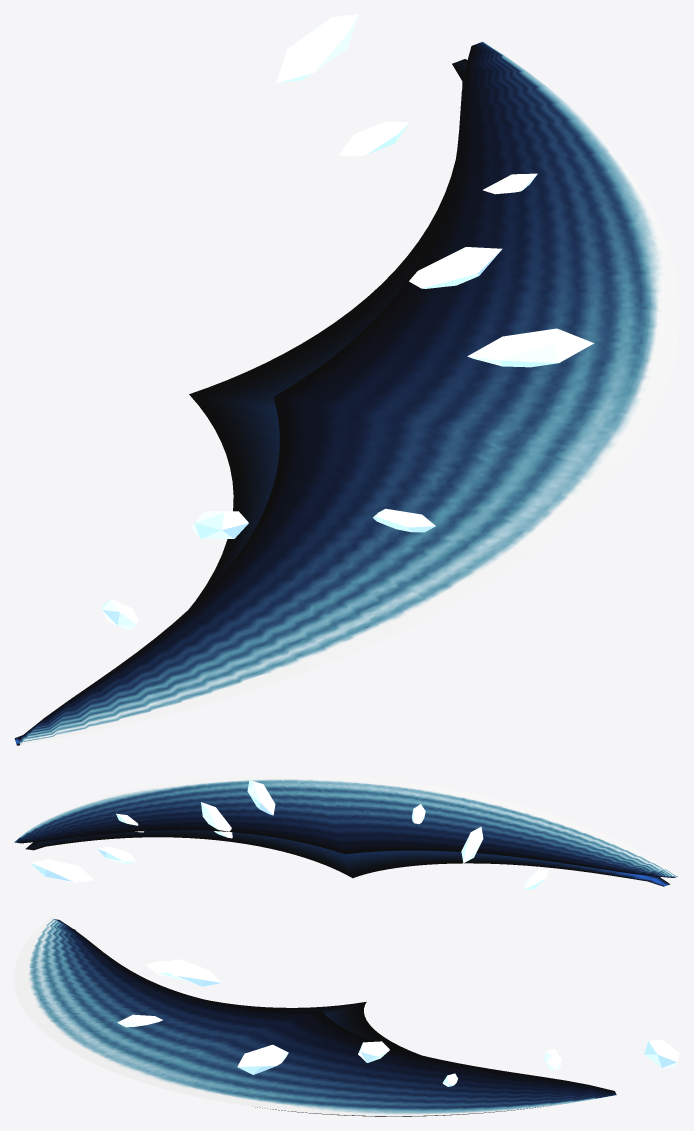
The model's file is swing.glb.
3 views of the same model, one above another, from view 1: azimuth 30°, elevation 25°; view 2: azimuth 150°, elevation 25°; view 3: azimuth 270°, elevation 25° (orthographic). The views are drawn at different scales.
Parts seen in each view (by area): view 1: swing_slash, swing_glow, swing_shards; view 2: swing_slash, swing_glow, swing_shards; view 3: swing_slash, swing_shards, swing_glow.
Boxes of the visible parts, x1=… form: swing_slash: x1=18, y1=41, x2=679, y2=745; swing_glow: x1=14, y1=59, x2=467, y2=745; swing_shards: x1=102, y1=14, x2=593, y2=630; swing_slash: x1=14, y1=774, x2=679, y2=877; swing_glow: x1=25, y1=830, x2=670, y2=886; swing_shards: x1=30, y1=780, x2=548, y2=889; swing_slash: x1=14, y1=918, x2=616, y2=1116; swing_shards: x1=117, y1=959, x2=679, y2=1086; swing_glow: x1=74, y1=929, x2=551, y2=1116.
Size of the model in its own units: 0.9896 by 0.2067 by 0.9606.
3 materials, 2 textured.
